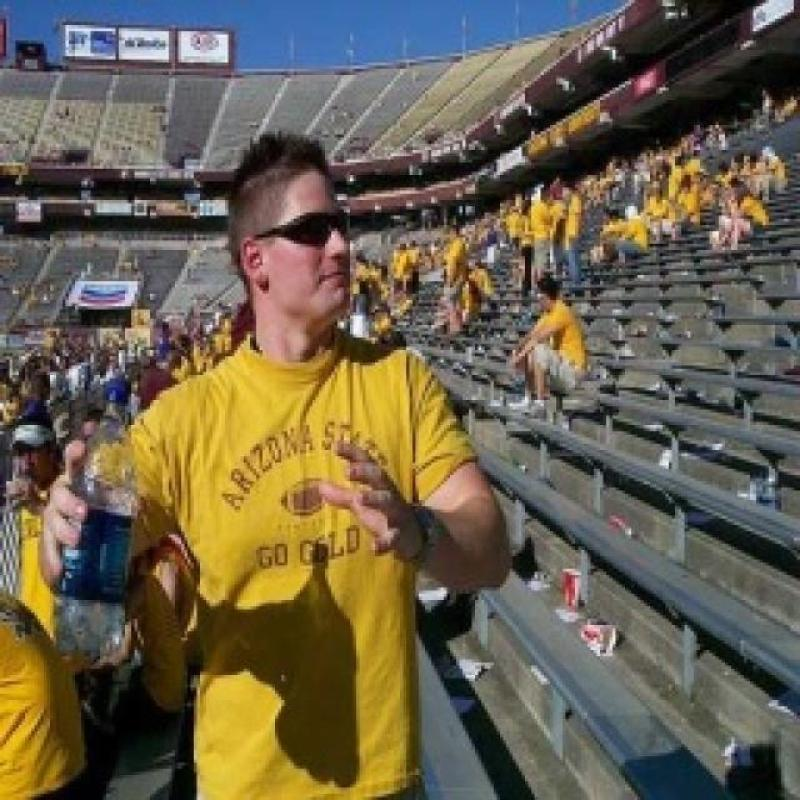botella: (49, 380, 140, 668)
